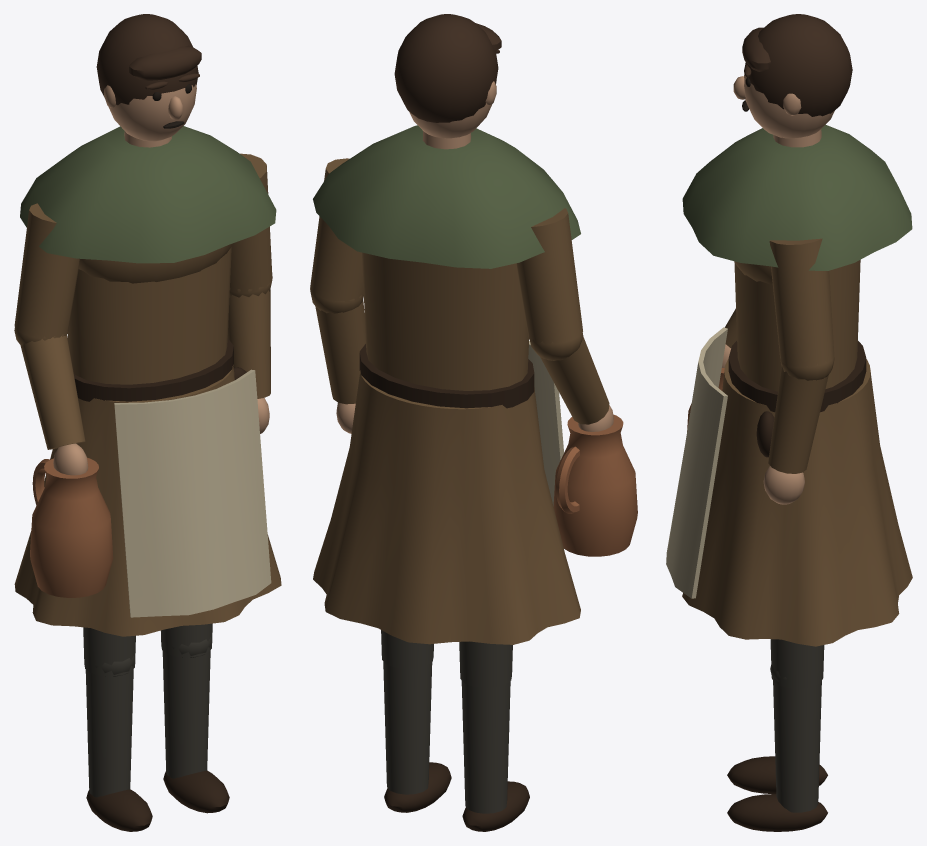
Rendered from criado.glb.
3 renders of one model, left to right at view 1: azimuth 30°, elevation 25°; view 2: azimuth 150°, elevation 25°; view 3: azimuth 270°, elevation 25°, orthographic.
Parts seen in each view (by area): view 1: Cuerpo, Cabeza, EspinillaI, EspinillaD, BrazoI, PiernaD, PiernaI; view 2: Cuerpo, Cabeza, BrazoI, EspinillaI, EspinillaD, PiernaD, PiernaI; view 3: Cuerpo, BrazoI, Cabeza, EspinillaI, PiernaI, EspinillaD.
Boxes of the visible parts, box(x1,y1,x2,y2) form: Cuerpo: box(14, 126, 281, 636); Cabeza: box(96, 14, 201, 141); EspinillaI: box(162, 637, 229, 813); EspinillaD: box(85, 656, 152, 831); BrazoI: box(227, 153, 272, 433); PiernaD: box(83, 627, 135, 676); PiernaI: box(161, 623, 212, 657); Cuerpo: box(313, 125, 637, 644); Cabeza: box(394, 14, 501, 138); BrazoI: box(310, 158, 365, 433); EspinillaI: box(383, 648, 451, 812); EspinillaD: box(461, 667, 529, 831); PiernaD: box(459, 641, 512, 688); PiernaI: box(381, 630, 433, 668); Cuerpo: box(666, 124, 912, 646); BrazoI: box(763, 238, 834, 504); Cabeza: box(733, 14, 852, 138); EspinillaI: box(727, 664, 827, 831); PiernaI: box(770, 639, 824, 688); EspinillaD: box(727, 756, 827, 793).
Size of the model in its own units: 0.64 by 1.76 by 0.4973.
